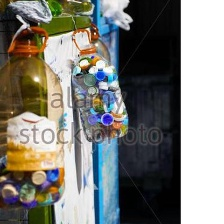bottle: (0, 19, 74, 210), (68, 27, 132, 144)
